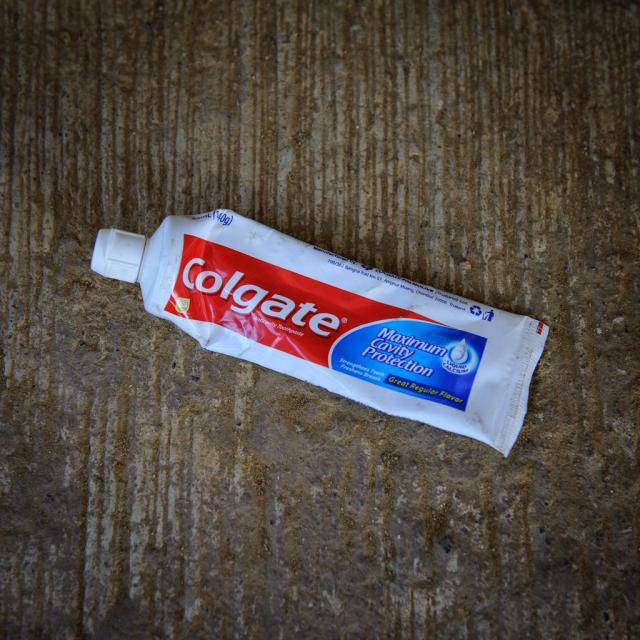Toothpaste: (87, 194, 560, 466)
